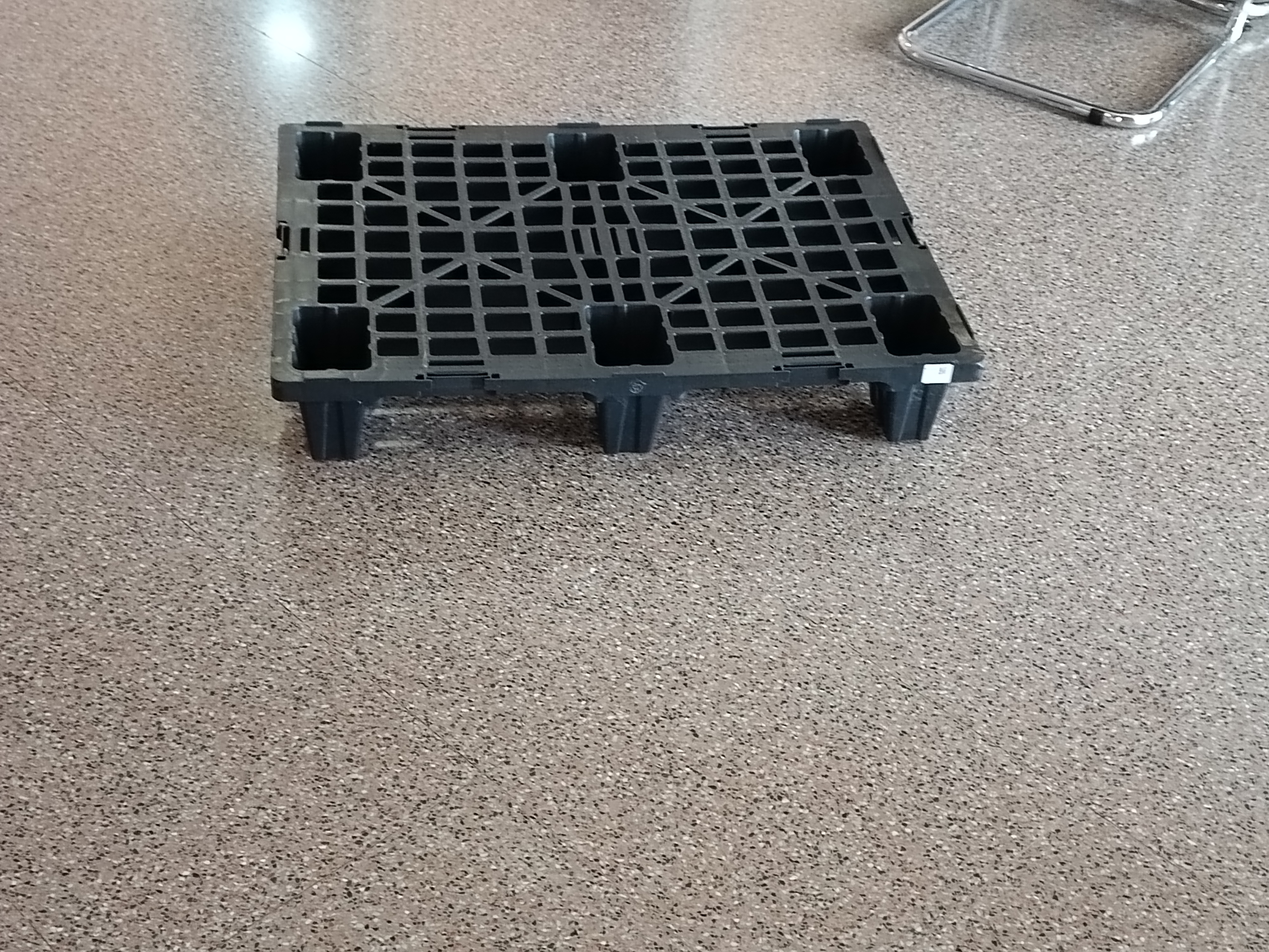block: (878, 365, 954, 443), (595, 391, 675, 456), (292, 400, 372, 464)
front: (273, 362, 983, 483)
hole pallet: (352, 392, 612, 466), (645, 383, 884, 447)
